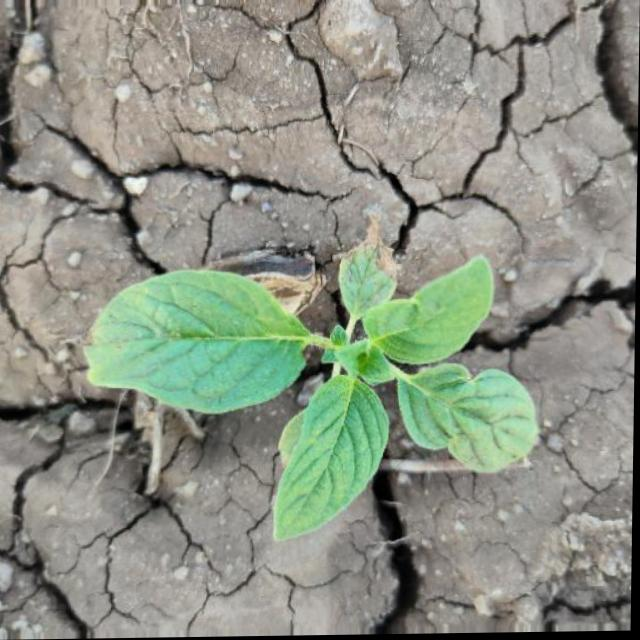crop: (76, 232, 560, 534)
